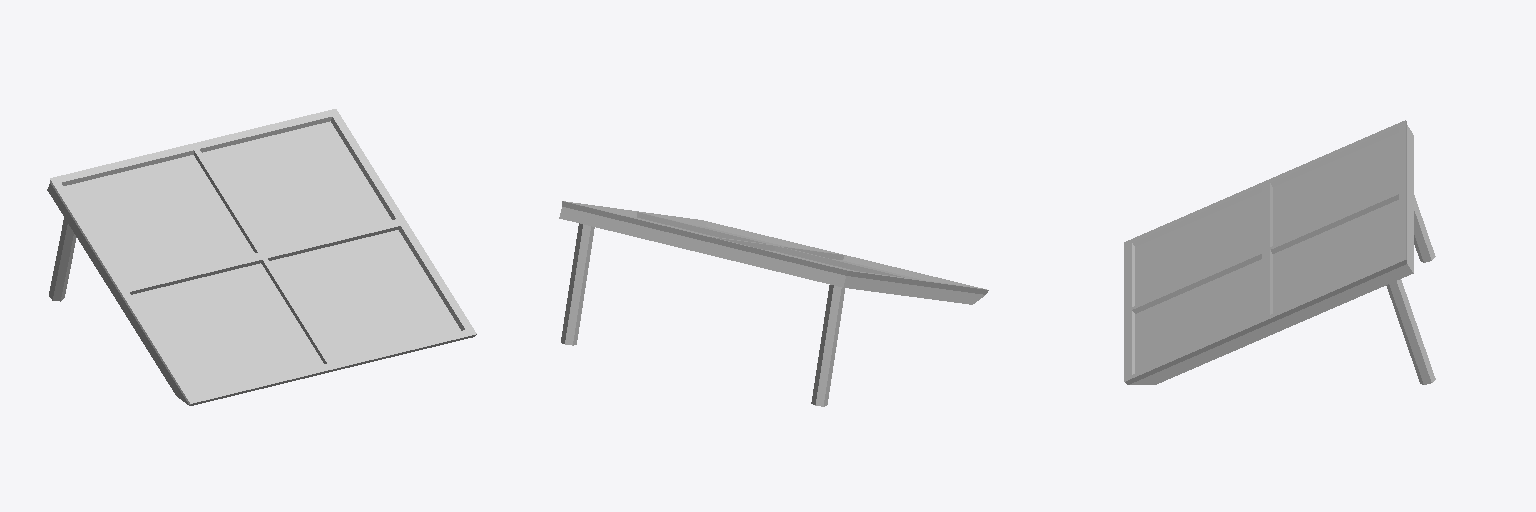
File: solarpanel.obj
The picture shows the model from 3 angles: view 1: azimuth 30°, elevation 25°; view 2: azimuth 150°, elevation 25°; view 3: azimuth 270°, elevation 25°; orthographic projection.
Visible parts, largest first — view 1: Solar_panel; view 2: Solar_panel; view 3: Solar_panel.
Boxes of the visible parts, box(x1,y1,x2,y2) form: Solar_panel: box(47, 109, 476, 405); Solar_panel: box(559, 201, 988, 406); Solar_panel: box(1124, 120, 1435, 384).
Size of the model in its own units: 3.25 by 1.44 by 3.06.